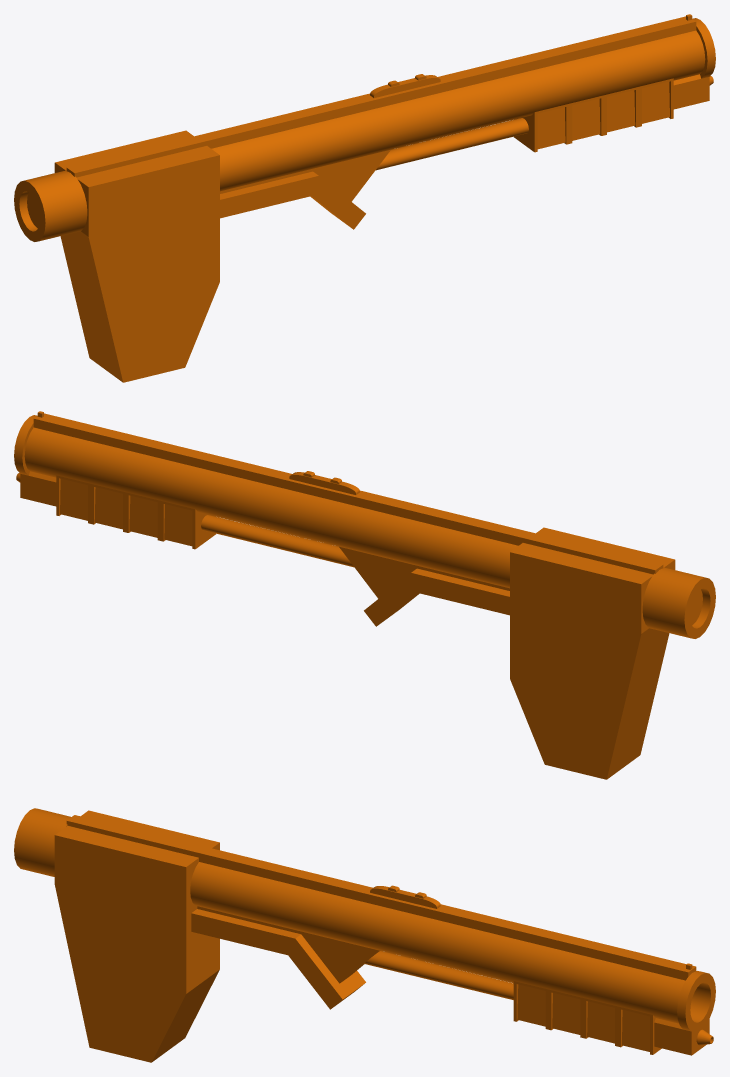
Rendered from bazooka.fbx.
The picture shows the model from 3 angles, top to bottom: view 1: azimuth 30°, elevation 25°; view 2: azimuth 150°, elevation 25°; view 3: azimuth 330°, elevation 25°; orthographic projection.
Parts seen in each view (by area): view 1: pCube7, polySurface1, pCube8, pCube1, pCube5, pPipe2, pCube6, pCube10; view 2: pCube7, polySurface1, pCube8, pCube1, pCube5, pPipe2, pCube6, pCube10; view 3: pCube7, polySurface1, pCube8, pCube5, pCube1, pPipe2, pCube6, pCube10.
Boxes of the visible parts, left/top/right/bottom form: pCube7: left=54, top=130, right=219, bottom=382; polySurface1: left=14, top=18, right=715, bottom=241; pCube8: left=66, top=16, right=696, bottom=177; pCube1: left=514, top=78, right=673, bottom=152; pCube5: left=220, top=149, right=390, bottom=229; pPipe2: left=376, top=76, right=713, bottom=170; pCube6: left=673, top=74, right=709, bottom=109; pCube10: left=370, top=75, right=440, bottom=97; pCube7: left=510, top=527, right=675, bottom=779; polySurface1: left=14, top=415, right=715, bottom=638; pCube8: left=33, top=413, right=663, bottom=574; pCube1: left=56, top=475, right=215, bottom=549; pCube5: left=339, top=546, right=509, bottom=626; pPipe2: left=16, top=473, right=353, bottom=567; pCube6: left=20, top=471, right=56, bottom=506; pCube10: left=289, top=472, right=359, bottom=494; pCube7: left=54, top=810, right=219, bottom=1062; polySurface1: left=14, top=808, right=715, bottom=1032; pCube8: left=66, top=815, right=696, bottom=980; pCube5: left=191, top=906, right=379, bottom=1009; pCube1: left=513, top=981, right=661, bottom=1054; pPipe2: left=364, top=951, right=713, bottom=1045; pCube6: left=654, top=1018, right=709, bottom=1055; pCube10: left=370, top=886, right=440, bottom=908.
Size of the model in its own units: 30.5 by 9.32 by 2.62.
